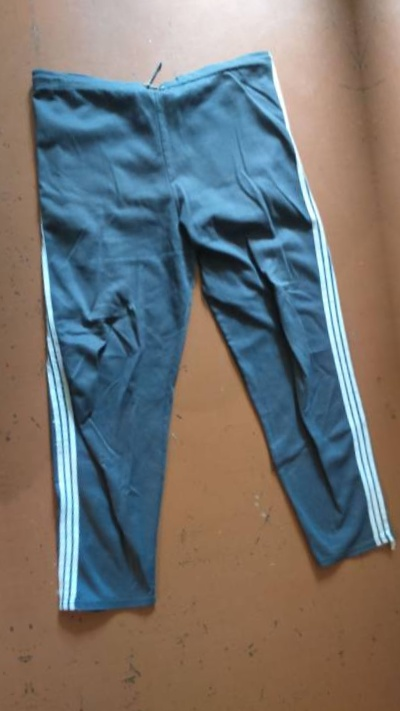Pants: (0, 13, 400, 630), (369, 0, 400, 579)
